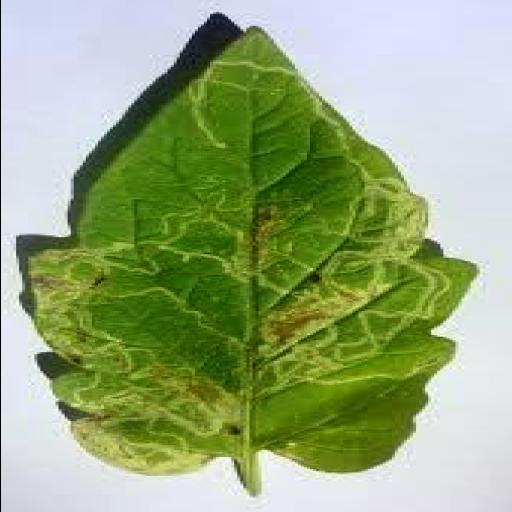Leaf Miner: (23, 26, 475, 476)
